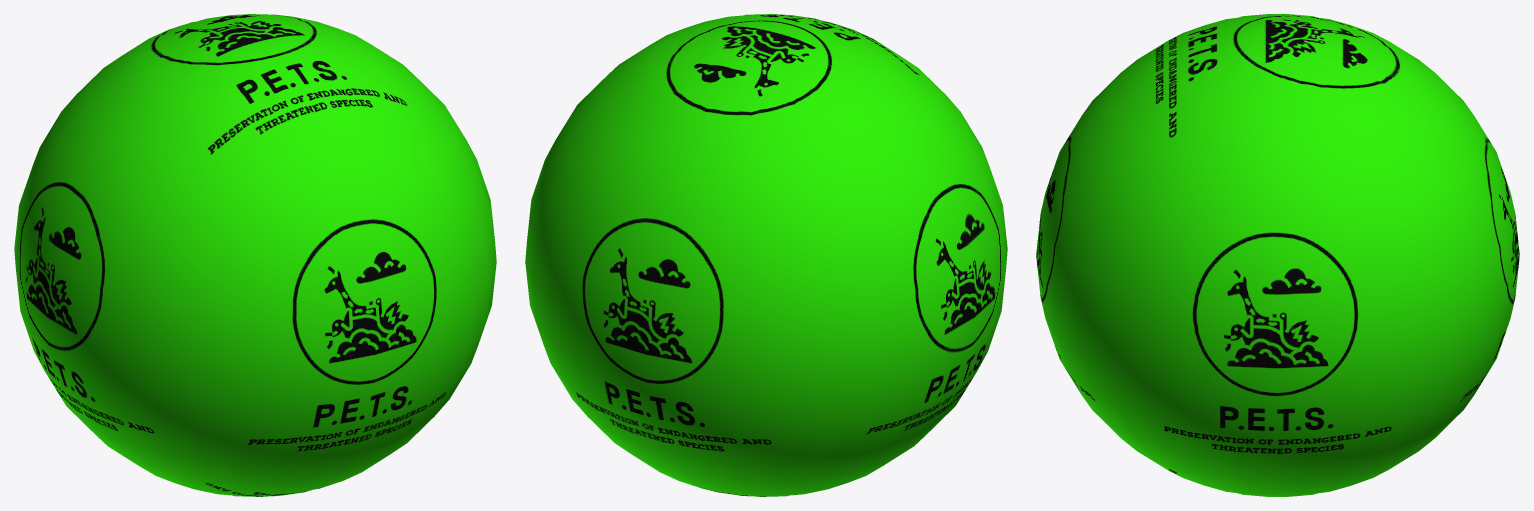
The model's file is toyBallGREEN.fbx.
3 renders of one model, left to right at view 1: azimuth 30°, elevation 25°; view 2: azimuth 150°, elevation 25°; view 3: azimuth 270°, elevation 25°, orthographic.
Parts seen in each view (by area): view 1: Sphere; view 2: Sphere; view 3: Sphere.
Part boxes in pixels (box(x1,y1,x2,y2)): Sphere: box(14, 14, 496, 496); Sphere: box(525, 14, 1007, 496); Sphere: box(1036, 14, 1519, 496).
Size of the model in its own units: 2 by 2 by 2.
